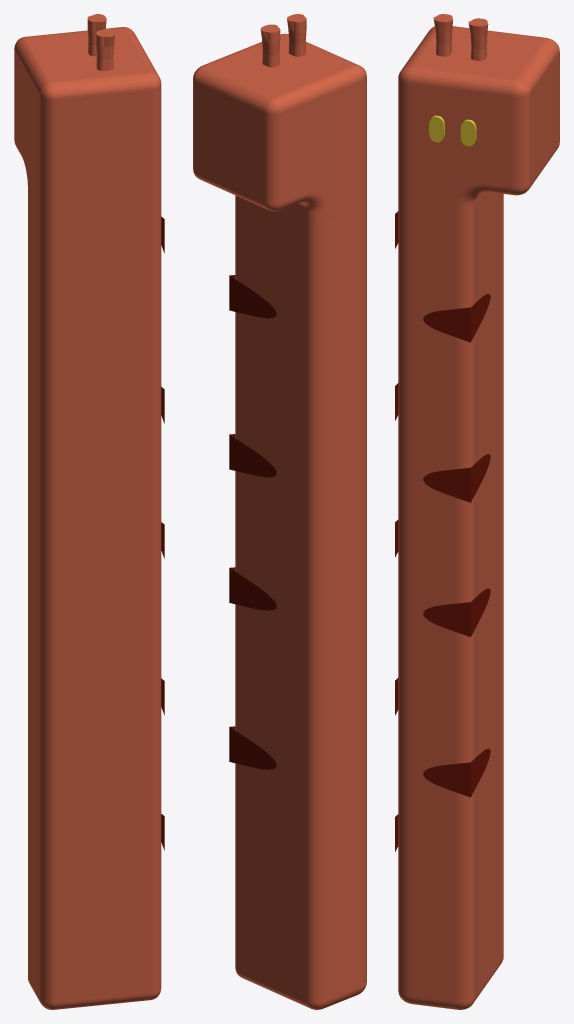
The model's file is giraffe.dae.
The picture shows the model from 3 angles, left to right: view 1: azimuth 30°, elevation 25°; view 2: azimuth 150°, elevation 25°; view 3: azimuth 270°, elevation 25°; orthographic projection.
Parts seen in each view (by area): view 1: _______; view 2: _______; view 3: _______.
Boxes of the visible parts, x1,y1,x2,y2 form: _______: [14, 14, 164, 1009]; _______: [193, 14, 366, 1009]; _______: [395, 14, 559, 1009].
Bounding box in the file's own units: 1.52 × 10.66 × 1.64.
